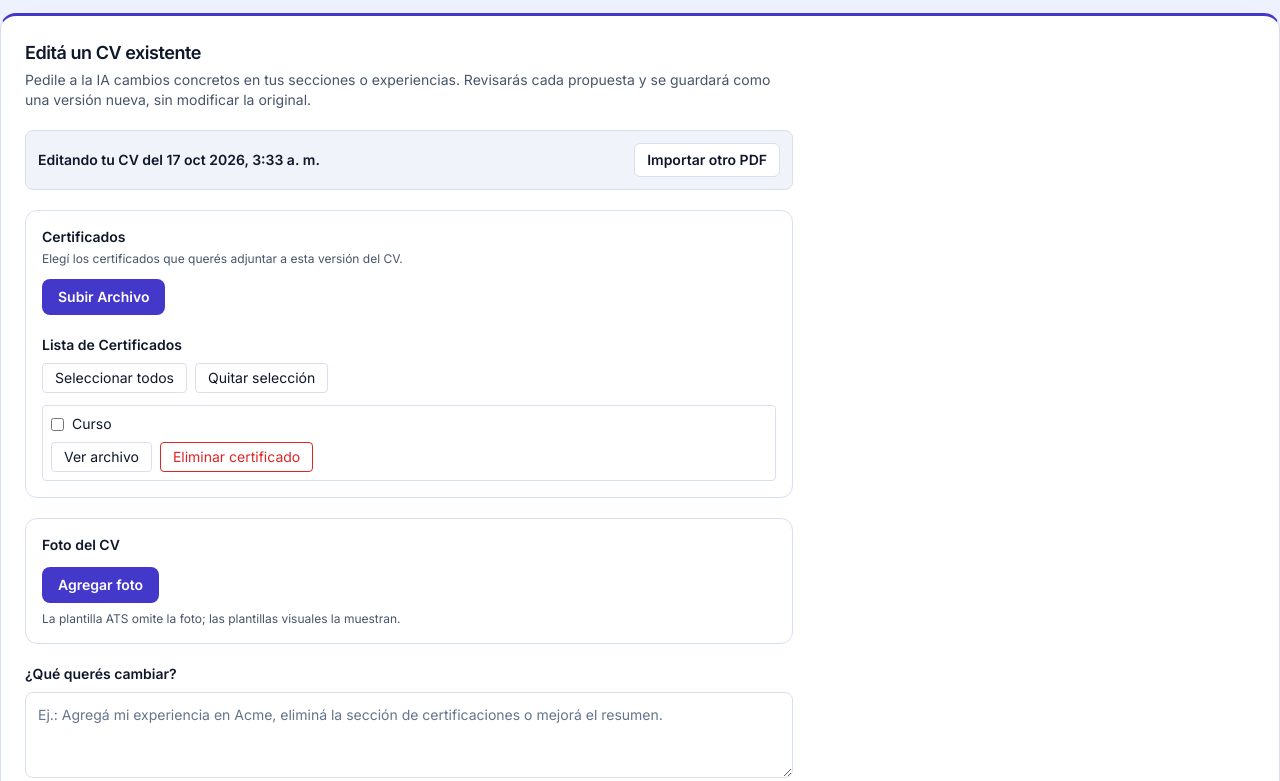
Test case: informa cuando el certificado ya figura en el CV guardado
Expected: the element with test id "cv-history-edit-banner" is shown, 25,130 -> 793,190
Click the checkbox labelled "Curso": (58, 424) 51,418 -> 64,430
(page scrolled)
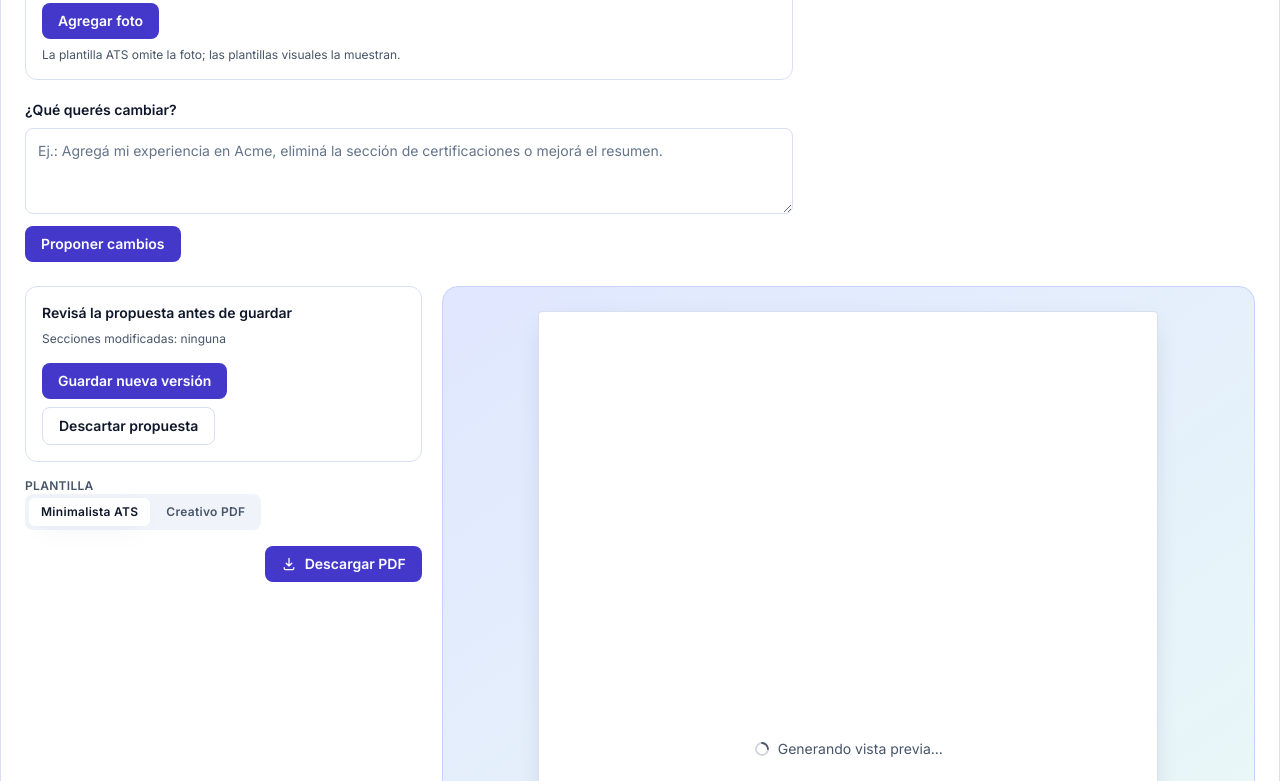
Click the button with test id "cv-import-save": (135, 381) 42,363 -> 227,399
(page scrolled)
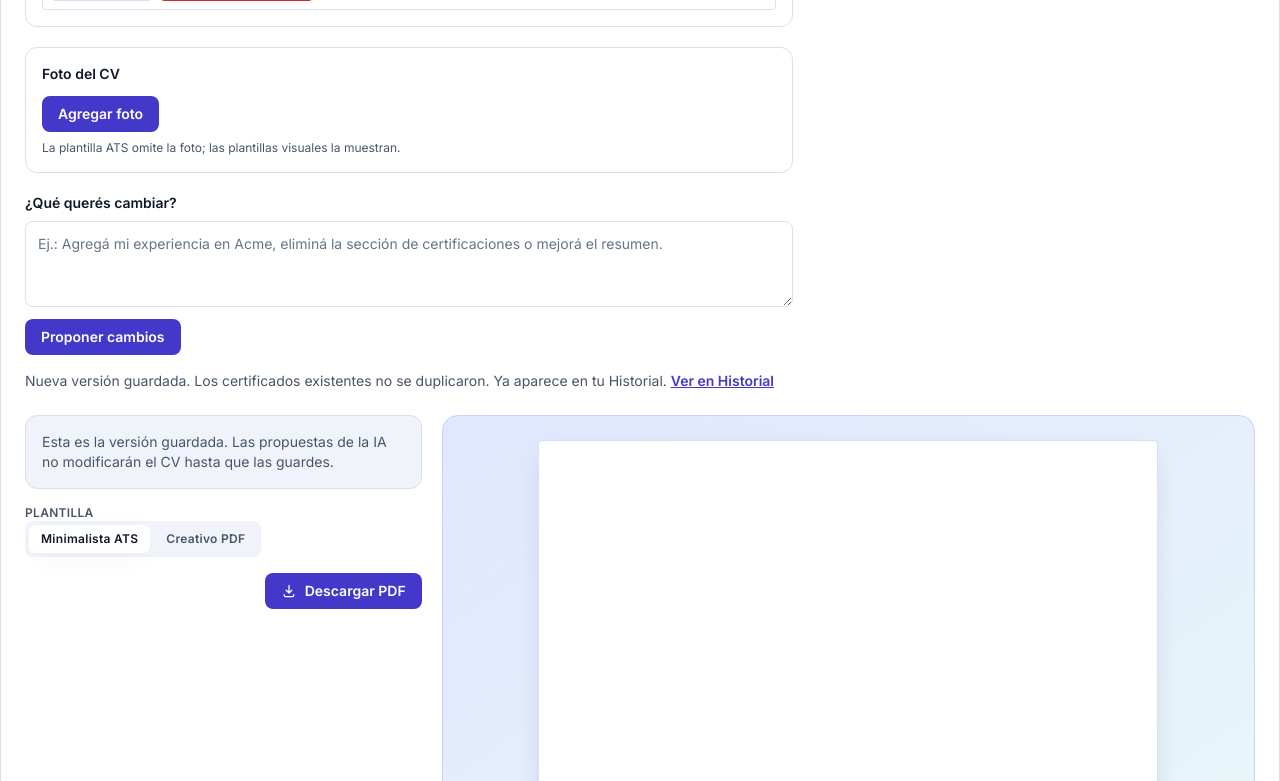
Expected: the message with test id "cv-import-status" shows "no se duplicaron", 25,372 -> 667,389
